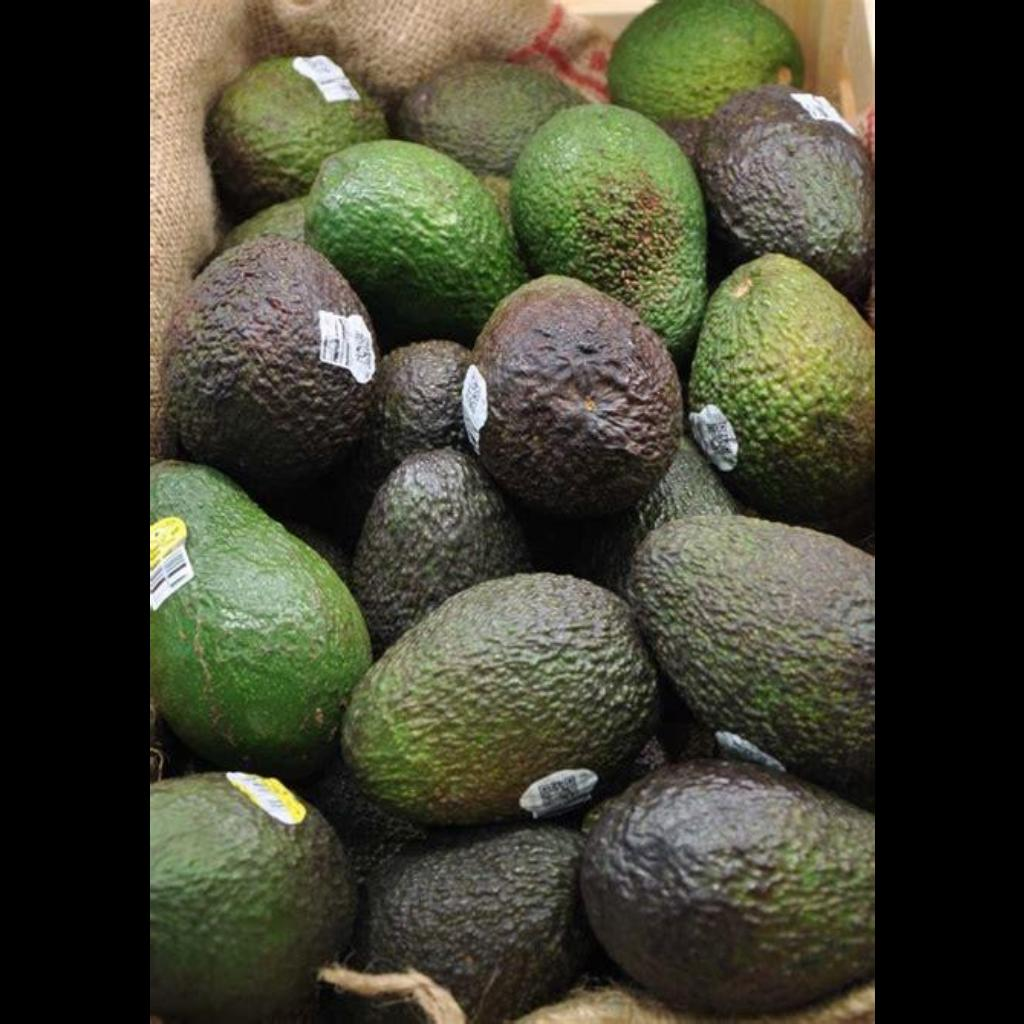Anthracnose: (434, 562, 874, 950), (437, 255, 705, 521), (683, 90, 865, 442), (191, 232, 399, 470)
